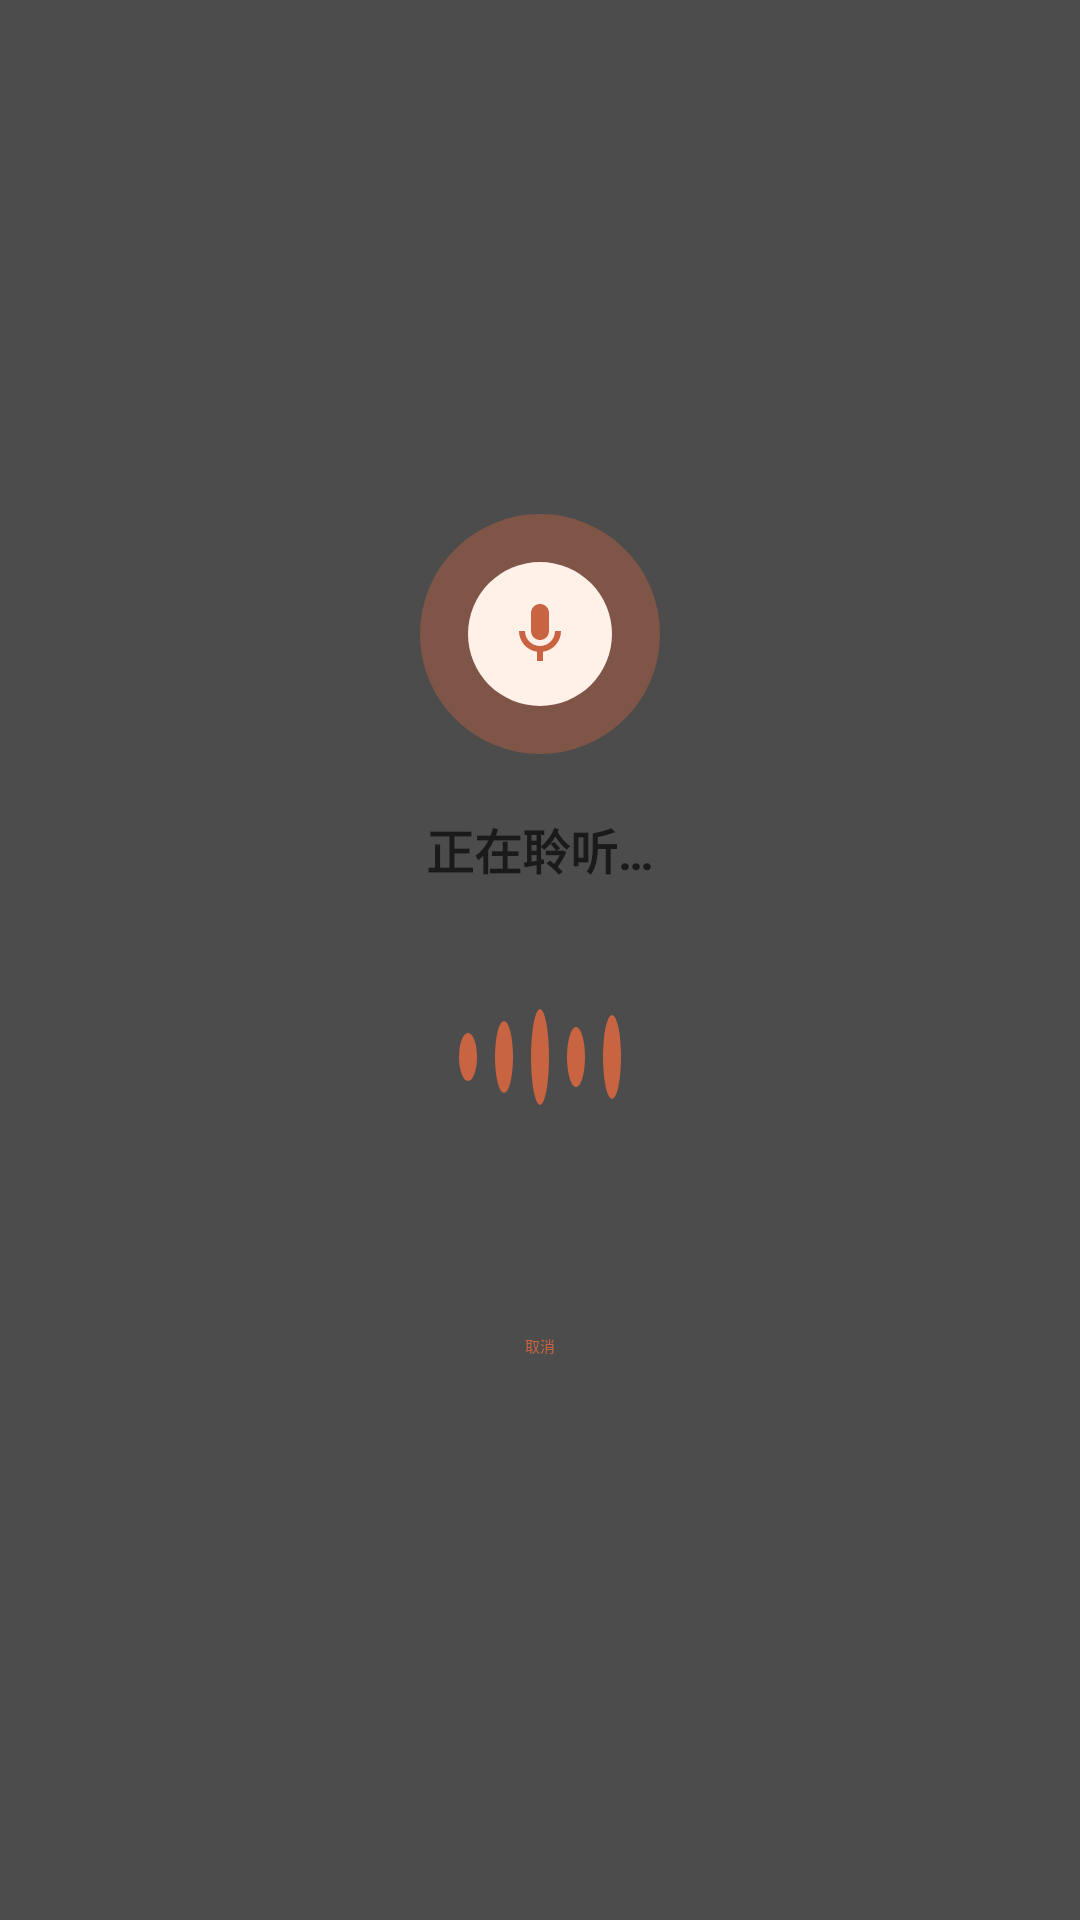

Icons on this 1080 × 1920 Android screen, each with the point to tap as (x,y):
语音输入: (540,634)
